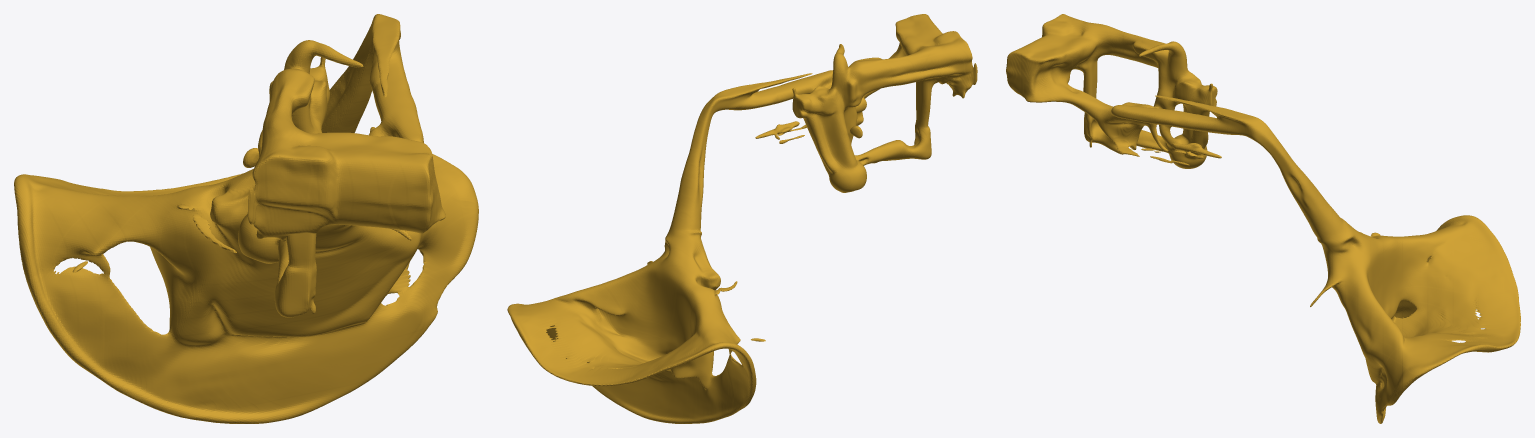
The model's file is trumpet_01.glb.
3 renders of one model, left to right at view 1: azimuth 30°, elevation 25°; view 2: azimuth 150°, elevation 25°; view 3: azimuth 270°, elevation 25°, orthographic. The views are drawn at different scales.
Visible parts, largest first — view 1: world; view 2: world; view 3: world.
Boxes of the visible parts, left/top/right/bottom form: world: left=14, top=14, right=478, bottom=423; world: left=507, top=14, right=977, bottom=423; world: left=1006, top=14, right=1520, bottom=423.
Size of the model in its own units: 1.38 by 1.39 by 1.99.
